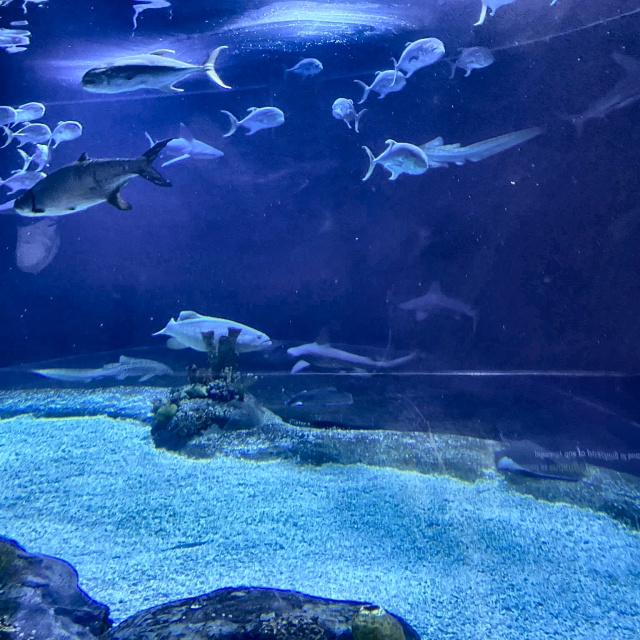fish: (13, 138, 173, 217), (79, 45, 232, 94), (152, 310, 270, 352), (361, 140, 428, 182), (392, 38, 445, 78), (226, 107, 285, 139), (354, 70, 406, 103), (447, 47, 494, 77), (0, 121, 51, 148), (0, 169, 50, 194), (473, 0, 514, 27), (334, 98, 365, 132), (18, 144, 52, 172), (47, 121, 81, 147), (12, 102, 45, 128), (285, 59, 323, 79), (0, 106, 18, 127)
shark: (557, 52, 639, 138), (288, 327, 419, 374), (403, 127, 541, 168), (32, 355, 174, 382), (401, 281, 475, 331), (145, 122, 223, 167)
stingray: (284, 386, 352, 407)
